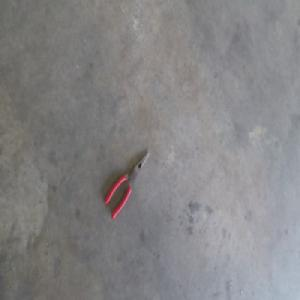Pliers: (102, 149, 149, 220)
